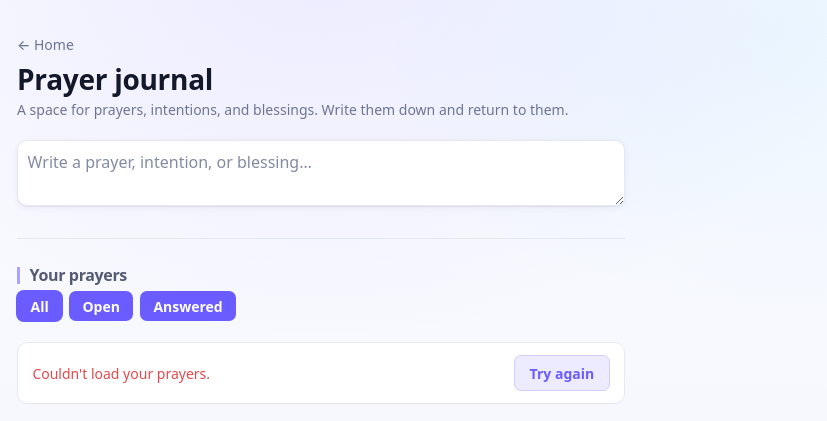
Test: PrayerPage › surfaces a load error with a retry
expect the text "Couldn't load your prayers." is shown: met, box [32, 363, 210, 384]
Click the button "Try again": (562, 373) [514, 355, 610, 391]
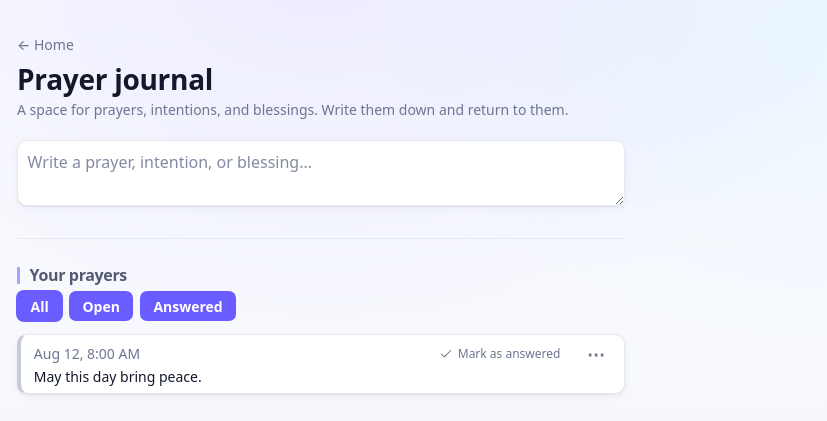
expect the text "May this day bring peace." is shown: met, box [34, 367, 202, 386]
